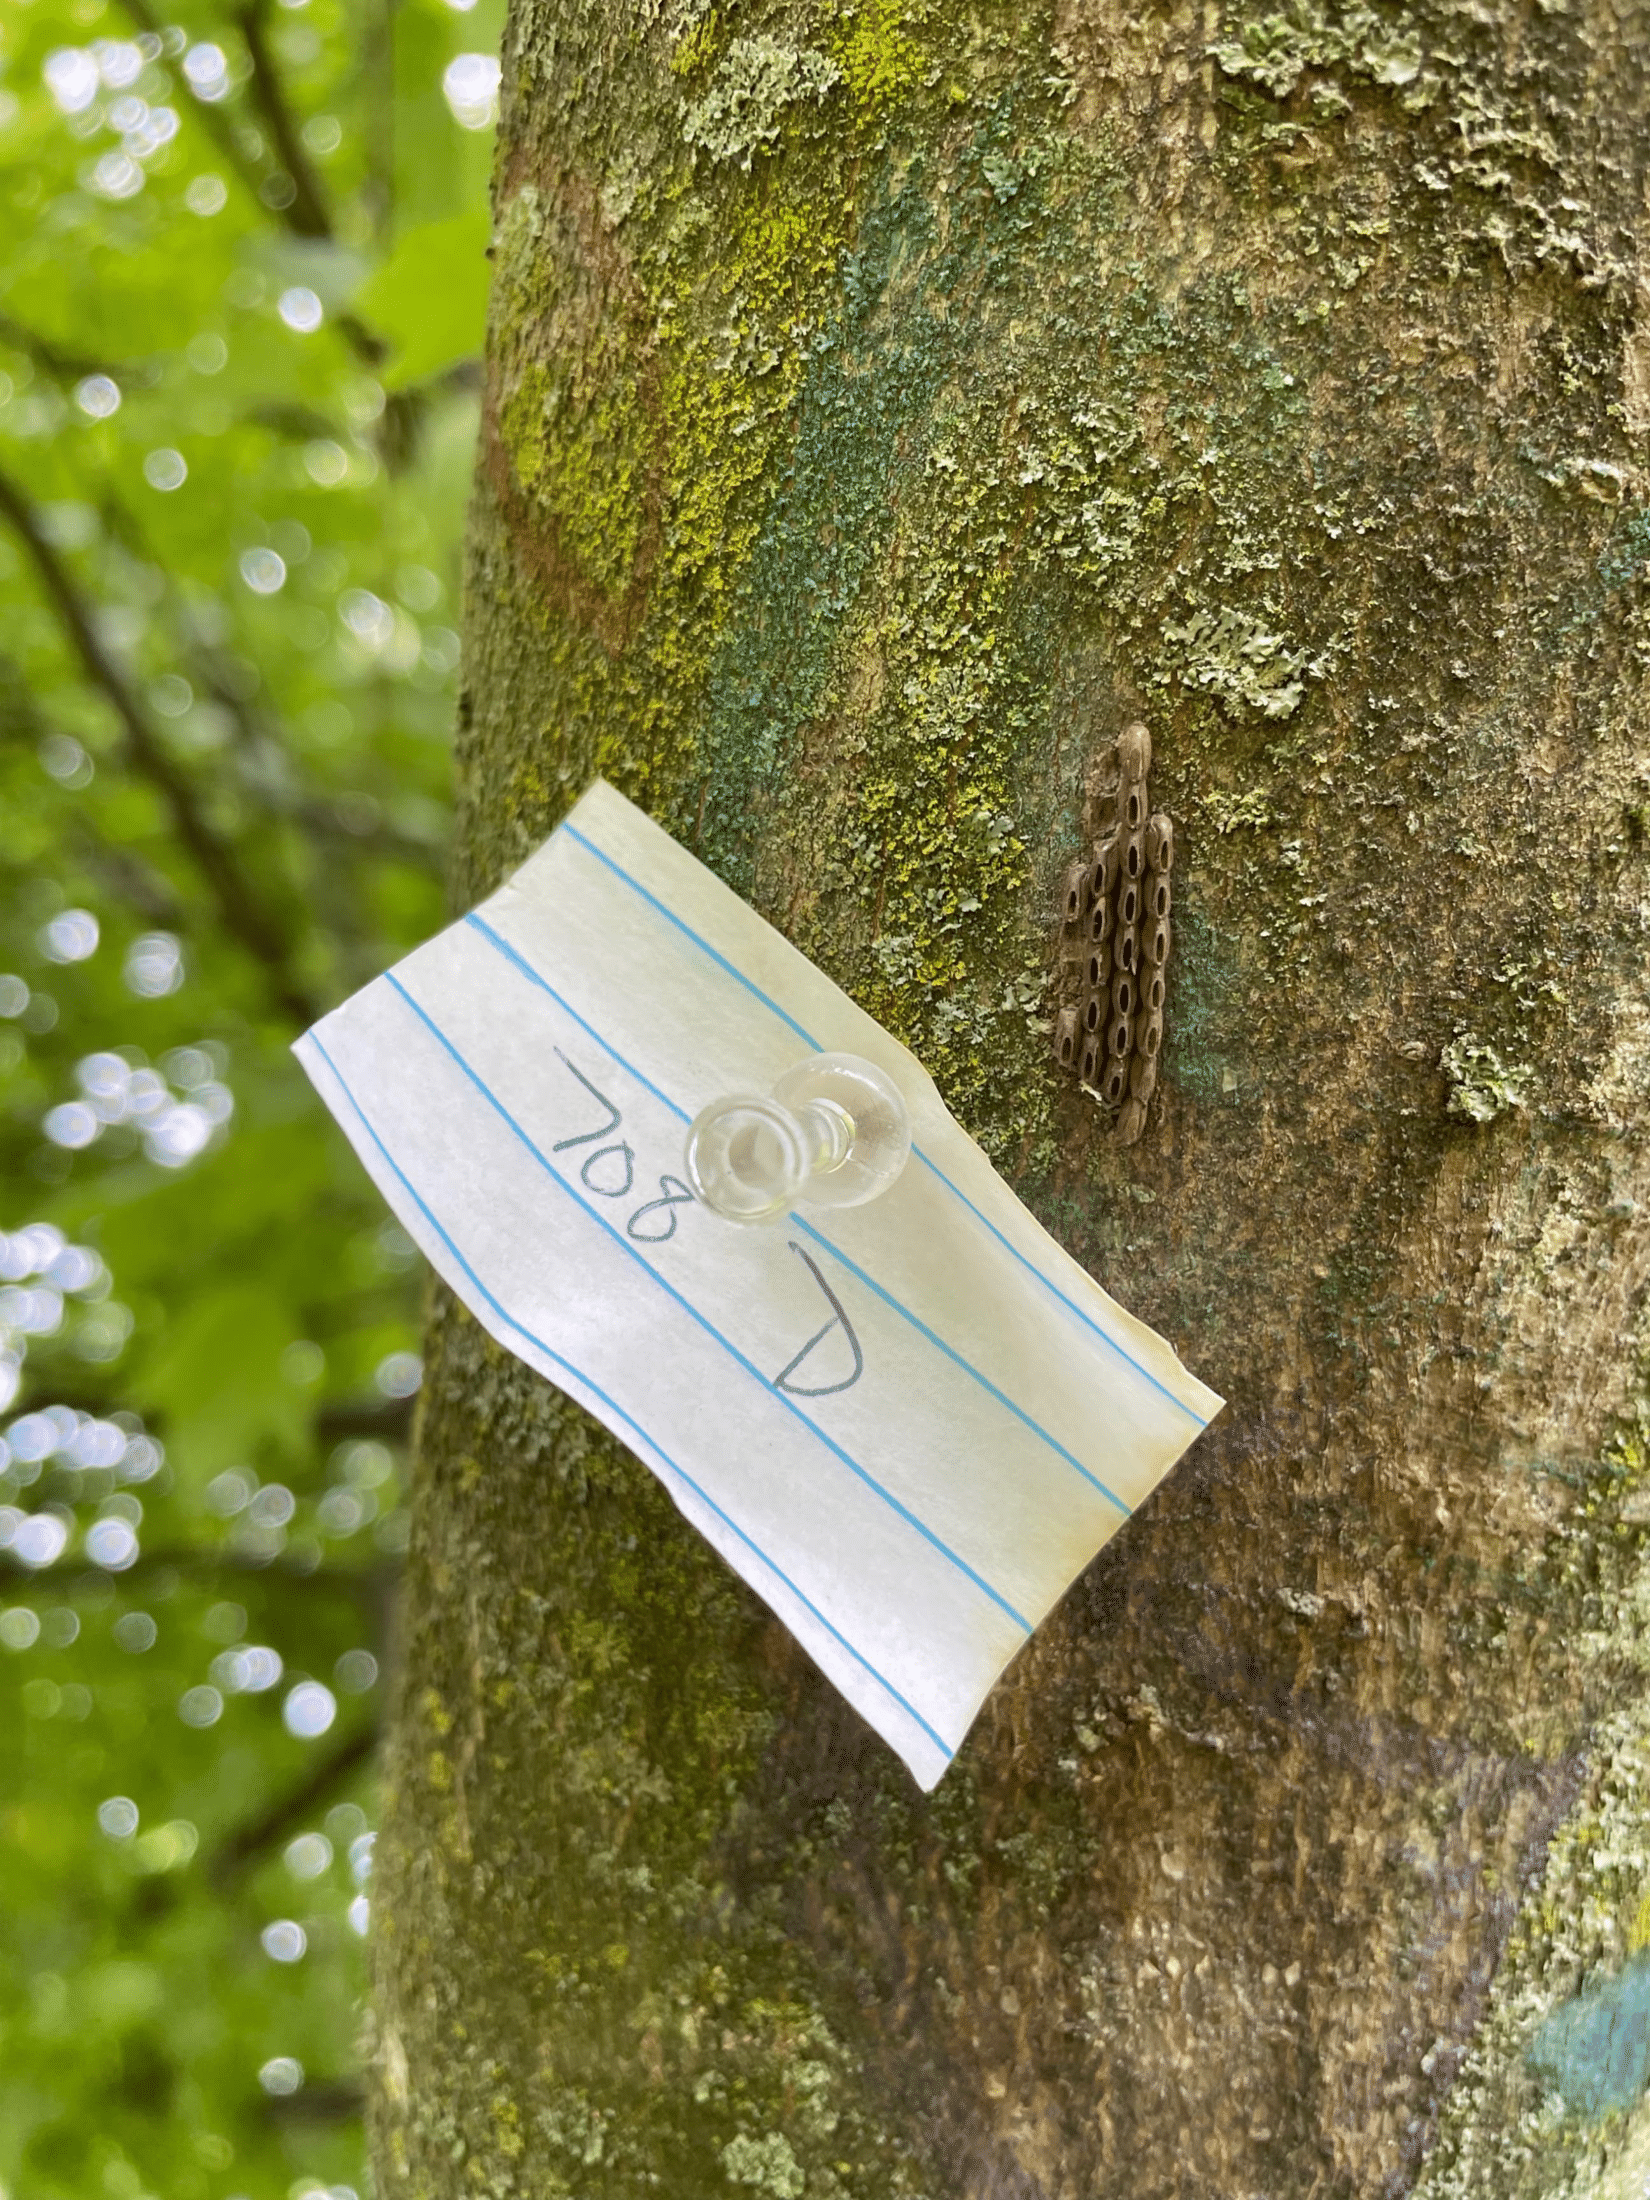egg masses: (1016, 683, 1231, 1154)
